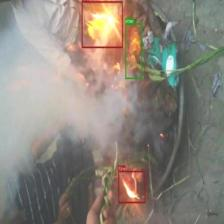fire: (82, 1, 122, 48), (118, 170, 146, 203)
